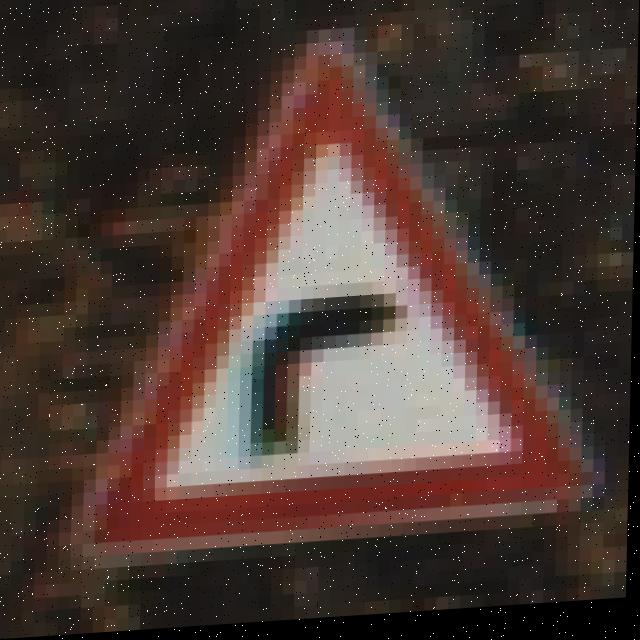right_turn: (86, 46, 604, 530)
